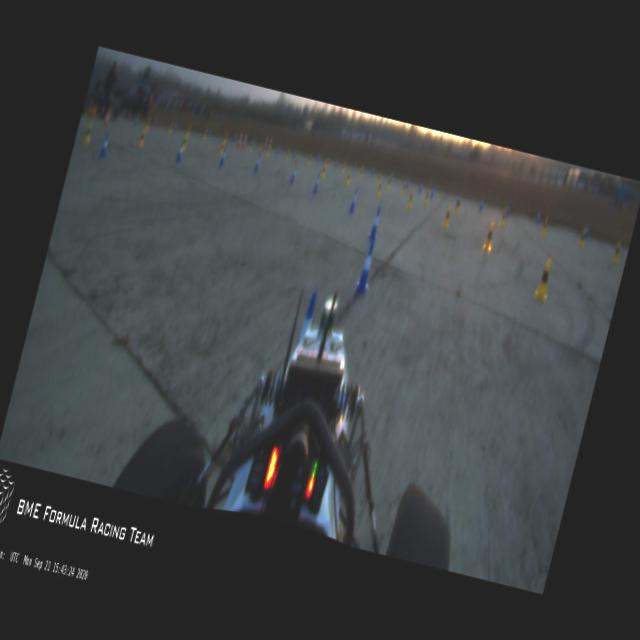blue_cone: (354, 238, 379, 294), (300, 290, 318, 340), (367, 205, 383, 240), (99, 132, 110, 158), (348, 188, 358, 212), (312, 170, 322, 193), (175, 142, 184, 162), (219, 146, 227, 166), (290, 164, 297, 183), (253, 154, 260, 172), (506, 202, 512, 216), (478, 198, 484, 211), (536, 211, 542, 224), (455, 192, 460, 205), (430, 186, 434, 198), (418, 182, 422, 192)
yellow_cone: (533, 257, 555, 301), (482, 220, 497, 252), (82, 122, 94, 144), (442, 205, 452, 228), (611, 241, 621, 263), (577, 228, 586, 248), (138, 128, 146, 147), (406, 190, 414, 208), (500, 208, 508, 226), (540, 218, 548, 236), (217, 140, 225, 156), (254, 146, 262, 162), (344, 170, 351, 187), (182, 135, 188, 151), (292, 154, 298, 170), (376, 180, 382, 196), (424, 188, 430, 204), (455, 196, 461, 212), (320, 164, 326, 178), (401, 181, 406, 196), (386, 175, 391, 188)
